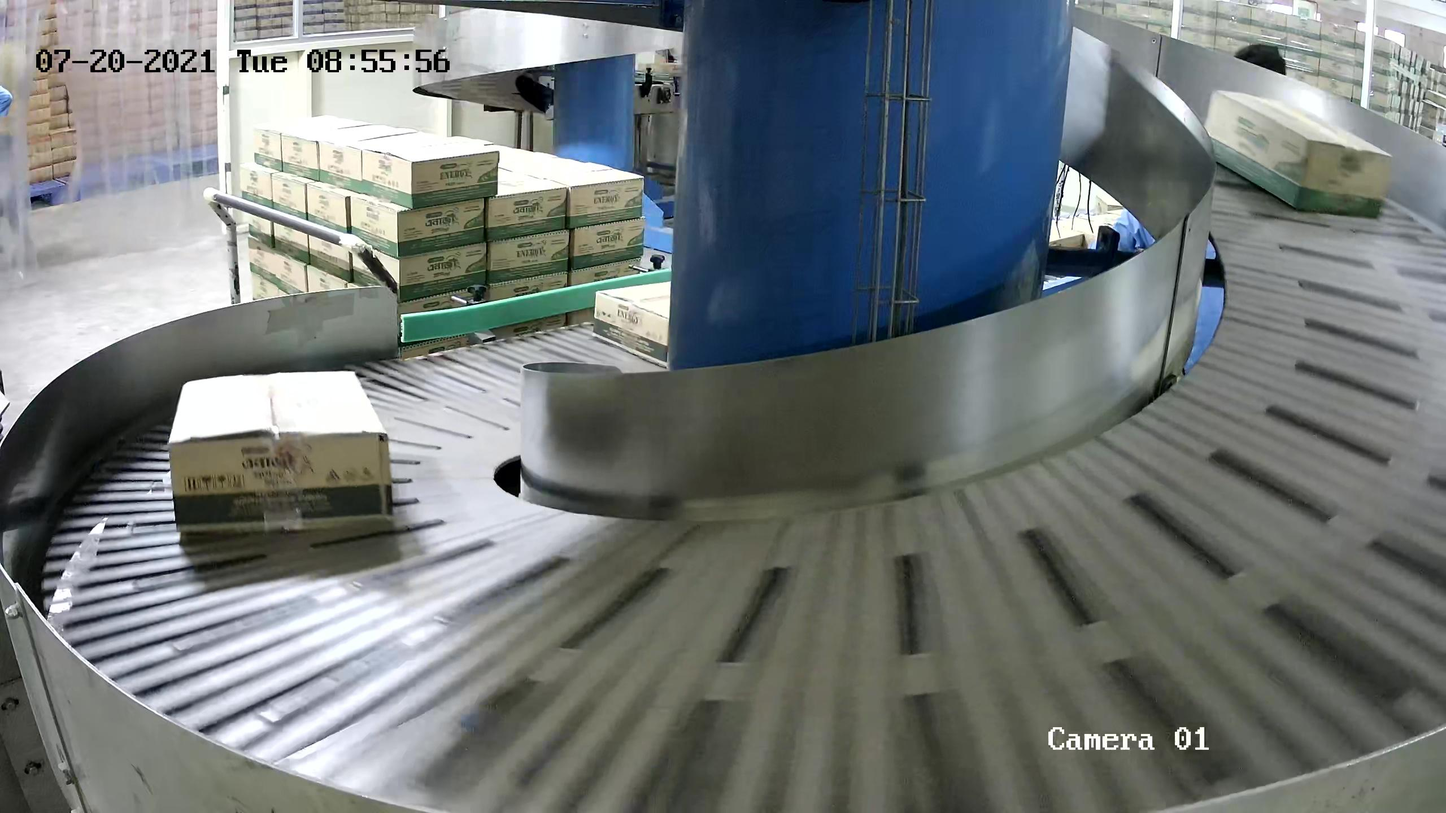Box: (167, 370, 395, 532), (1204, 89, 1394, 218), (591, 279, 671, 368)
